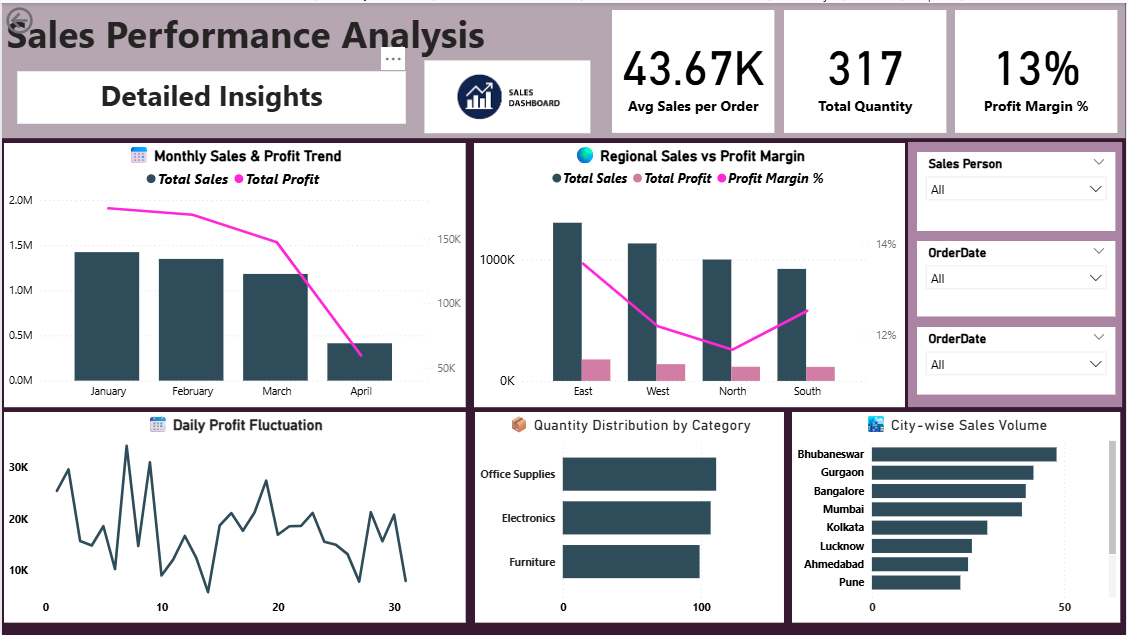

What the dashboard file says about the page in this screenshot:
{"tool":"powerbi","page":{"name":"detailed","canvas":[1280,720],"ordinal":1},"visuals":[{"type":"textbox","box":[1032,158.1,244.2,302],"z":0},{"type":"textbox","box":[0,0,1280,154.2],"z":1000},{"type":"card","fields":{"Values":["SalesData.Avg Sales per Order"]},"box":[695.3,7.7,185.1,140.1],"z":2000},{"type":"card","fields":{"Values":["SalesData.Total Quantity"]},"box":[890.6,7.7,185.1,140.1],"z":3000},{"type":"card","fields":{"Values":["SalesData.Profit Margin %"]},"box":[1085.9,7.7,185.1,140.1],"z":4000},{"type":"textbox","box":[16.7,77.1,443.4,60.4],"z":5000},{"type":"slicer","fields":{"Values":["SalesData.OrderDate"]},"box":[1042.2,368.8,226.2,77.1],"z":6000},{"type":"actionButton","box":[0,0,100,40],"z":7000},{"type":"slicer","fields":{"Values":["SalesData.Sales Person"]},"box":[1042.2,169.6,226.2,90],"z":8000},{"type":"slicer","fields":{"Values":["SalesData.OrderDate"]},"box":[1042.2,271.2,226.2,86.1],"z":9000},{"type":"lineChart","title":"📆 Daily Profit Fluctuation","fields":{"Category":["SalesData.OrderDate.Variation.Date Hierarchy.Day"],"Y":["SalesData.Total Profit"]},"box":[2.6,466.5,525.6,240.3],"z":10000},{"type":"lineClusteredColumnComboChart","title":"📅 Monthly Sales & Profit Trend","fields":{"Y":["SalesData.Total Sales"],"Y2":["SalesData.Total Profit"],"Category":["SalesData.OrderDate.Variation.Date Hierarchy.Month"]},"box":[2.6,159.4,525.6,300.7],"z":11000},{"type":"lineClusteredColumnComboChart","title":"🌍 Regional Sales vs Profit Margin","fields":{"Y":["SalesData.Total Sales","SalesData.Total Profit"],"Y2":["SalesData.Profit Margin %"],"Category":["SalesData.Region"]},"box":[537.2,159.4,490.9,300.7],"z":12000},{"type":"clusteredBarChart","title":"📦 Quantity Distribution by Category","fields":{"Category":["SalesData.Product Category"],"Y":["SalesData.Total Quantity"]},"box":[538.5,466.5,352.1,240.3],"z":13000},{"type":"clusteredBarChart","title":"🏙️ City-wise Sales Volume","fields":{"Y":["SalesData.Total Quantity"],"Category":["SalesData.City"]},"box":[899.6,466.5,374,240.3],"z":14000},{"type":"image","box":[460.1,60.4,230,92.5],"z":15000}]}

Visuals, with their boxes in screenshot pixels (x1, y1, x2, y2), scaled from the page's 1280x720 canvas onto the 1127x635 screenshot:
textbox: 909,139,1124,406
textbox: 0,0,1126,136
card - SalesData.Avg Sales per Order: 612,7,775,130
card - SalesData.Total Quantity: 784,7,947,130
card - SalesData.Profit Margin %: 956,7,1119,130
textbox: 15,68,405,121
slicer - SalesData.OrderDate: 918,325,1117,393
actionButton: 0,0,88,35
slicer - SalesData.Sales Person: 918,150,1117,229
slicer - SalesData.OrderDate: 918,239,1117,315
"📆 Daily Profit Fluctuation" lineChart: 2,411,465,623
"📅 Monthly Sales & Profit Trend" lineClusteredColumnComboChart: 2,141,465,406
"🌍 Regional Sales vs Profit Margin" lineClusteredColumnComboChart: 473,141,905,406
"📦 Quantity Distribution by Category" clusteredBarChart: 474,411,784,623
"🏙️ City-wise Sales Volume" clusteredBarChart: 792,411,1121,623
image: 405,53,608,135
